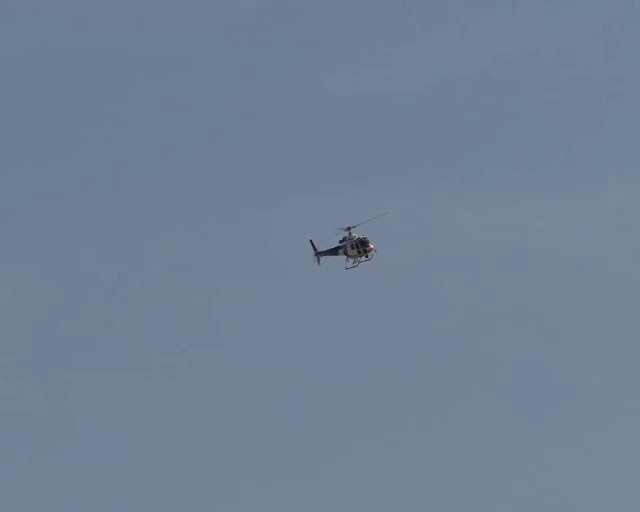HELICOPTER: (308, 211, 389, 270)
